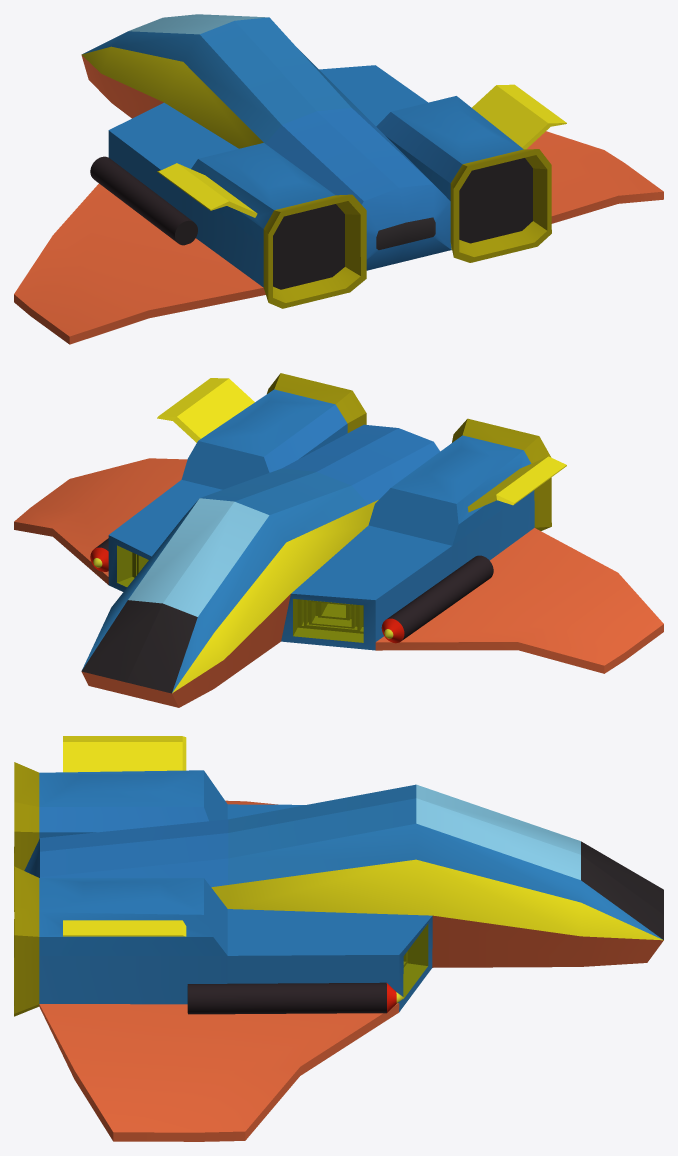
File: spaceship.glb
3 views of the same model, one above another, from view 1: azimuth 30°, elevation 25°; view 2: azimuth 150°, elevation 25°; view 3: azimuth 270°, elevation 25° (orthographic). The views are drawn at different scales.
Visible parts, largest first — view 1: Cube.001_0; view 2: Cube.001_0; view 3: Cube.001_0.
Boxes of the visible parts, left/top/right/bottom form: Cube.001_0: left=14, top=14, right=663, bottom=344; Cube.001_0: left=14, top=373, right=663, bottom=707; Cube.001_0: left=14, top=736, right=663, bottom=1141.
Size of the model in its own units: 19.15 by 4.77 by 15.83.
Materials: 1 (1 with a texture image).
